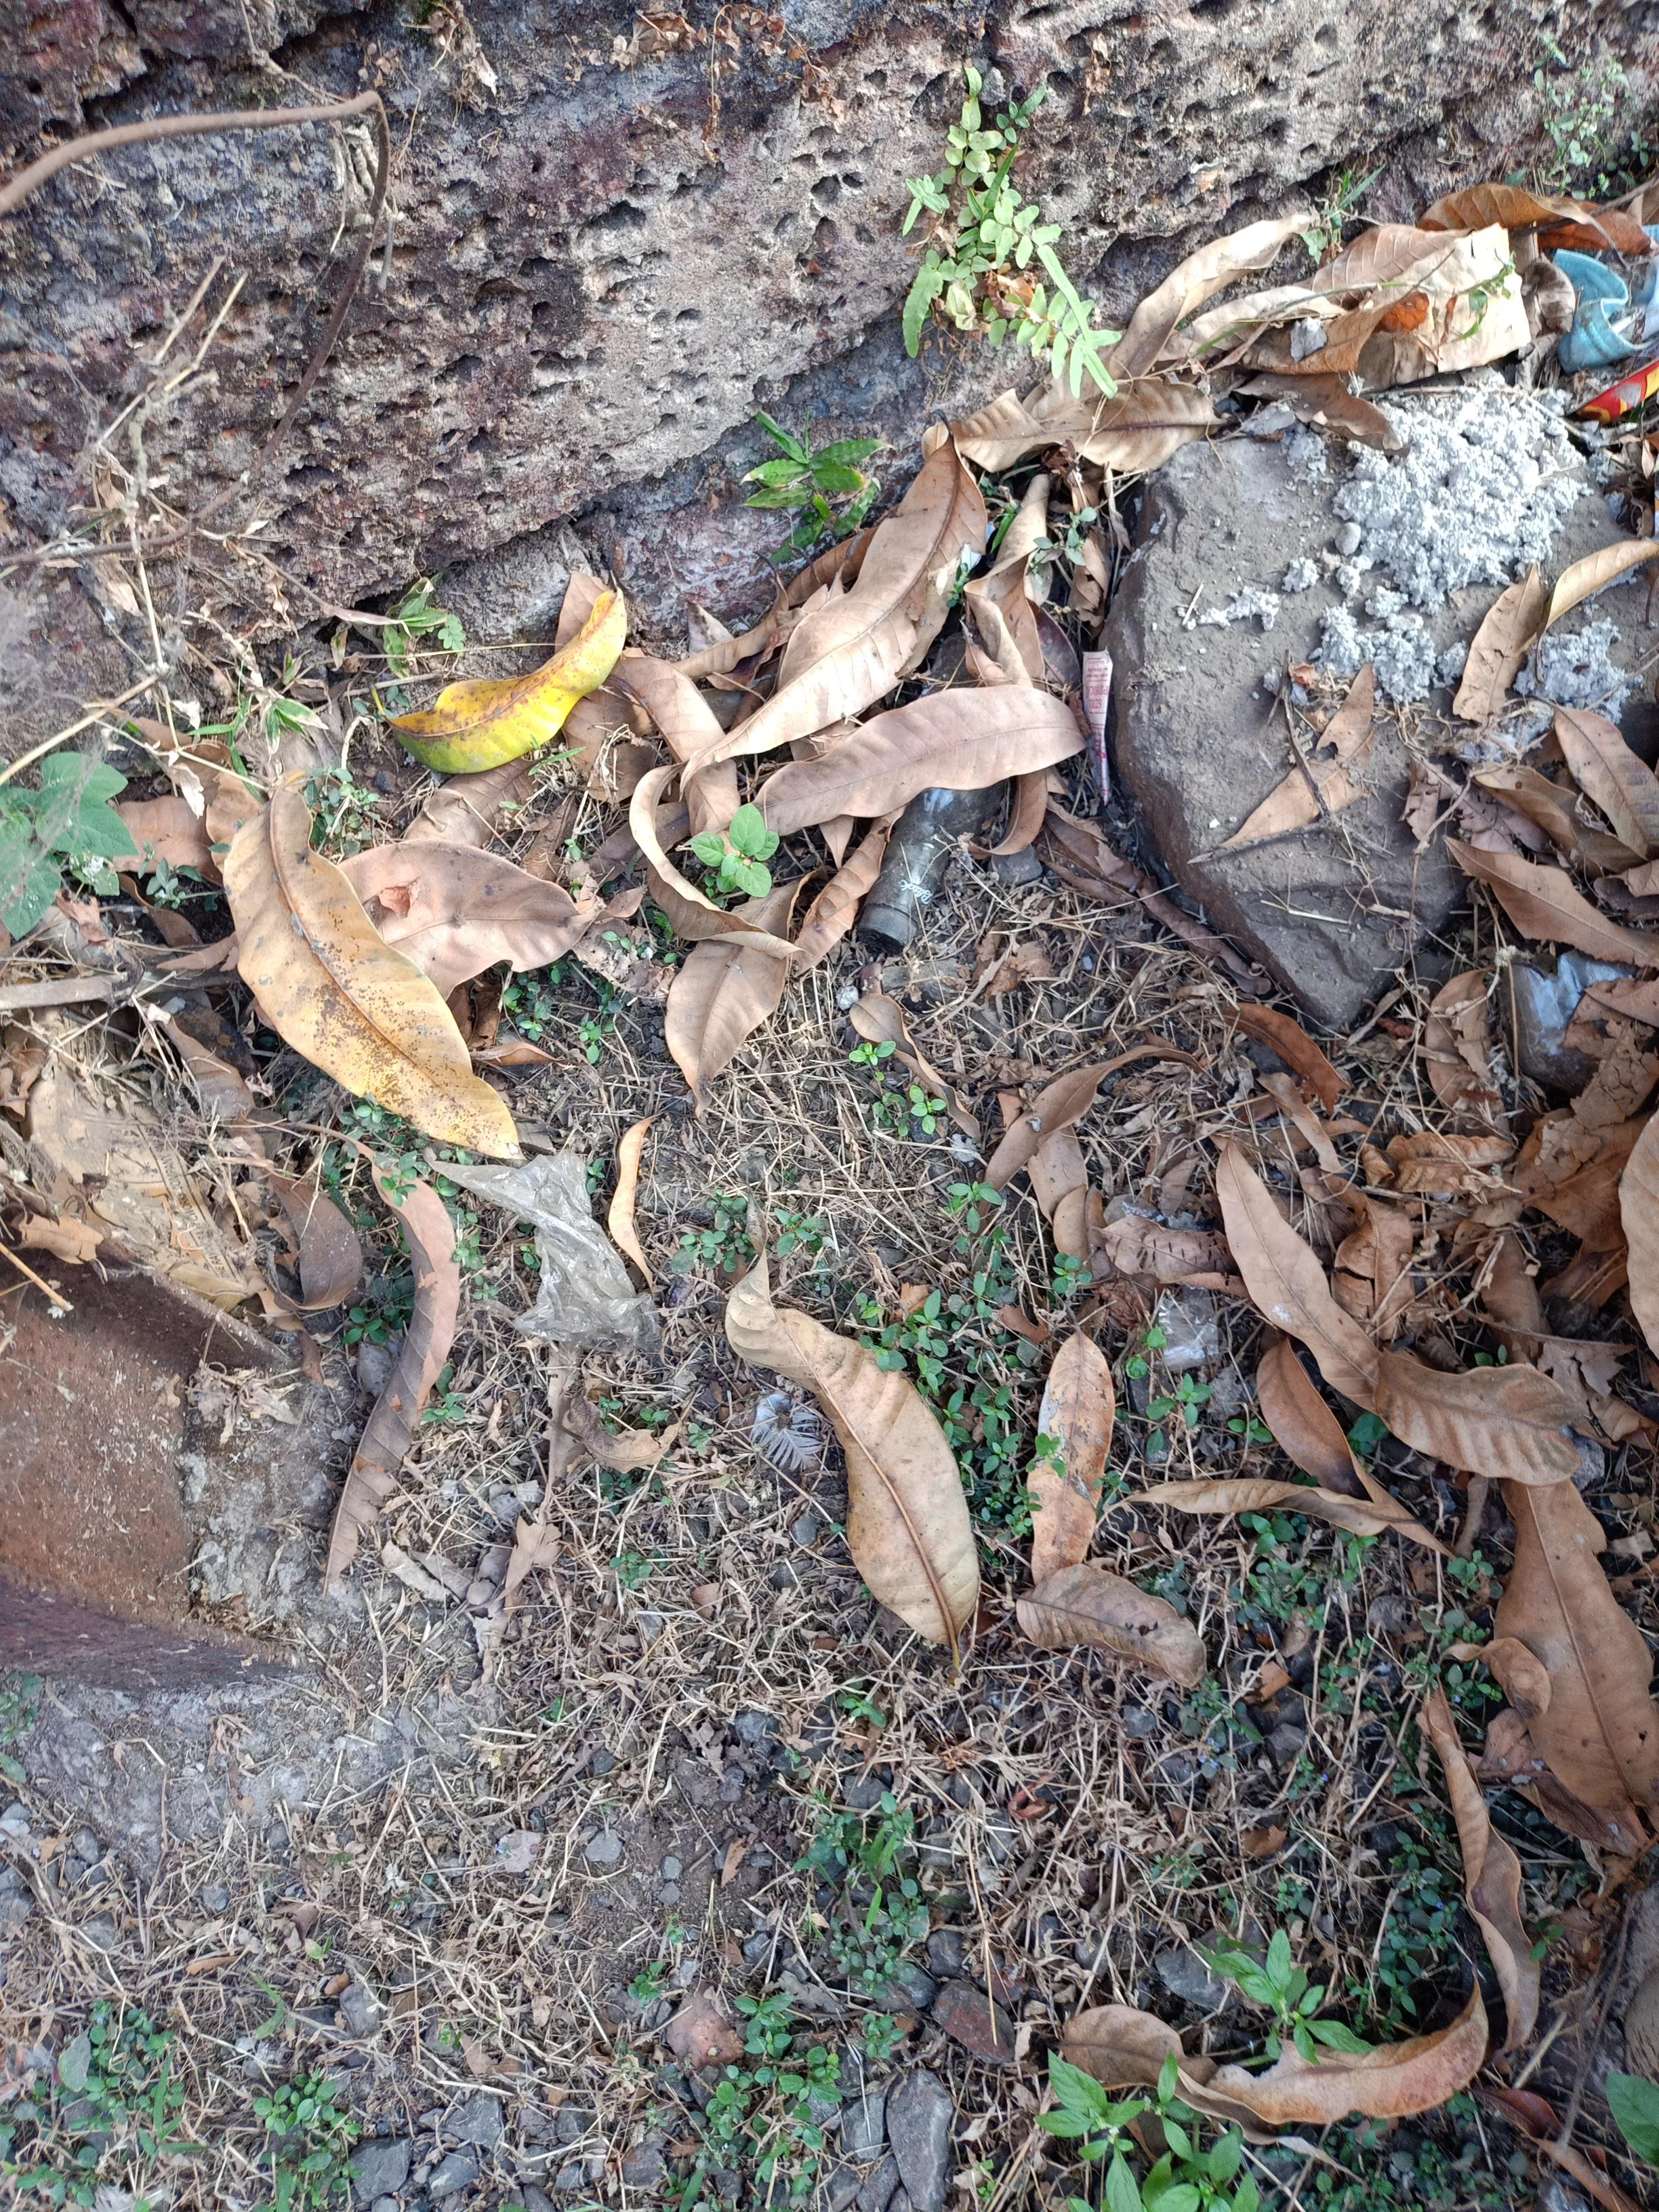trash: (403, 237, 1659, 1078)
